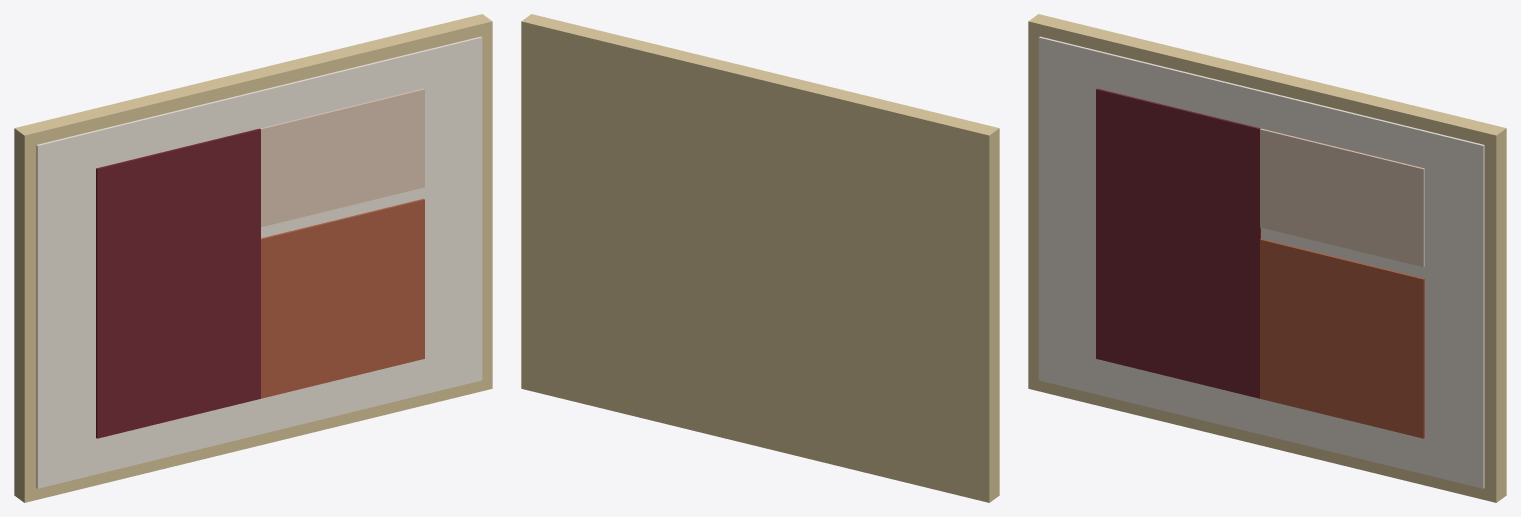
The model's file is quadro_abstrato.glb.
The picture shows the model from 3 angles, left to right: view 1: azimuth 30°, elevation 25°; view 2: azimuth 150°, elevation 25°; view 3: azimuth 330°, elevation 25°; orthographic projection.
Parts seen in each view (by area): view 1: quadro_abstrato; view 2: quadro_abstrato; view 3: quadro_abstrato.
Boxes of the visible parts, box(x1,y1,x2,y2) form: quadro_abstrato: box(14, 14, 492, 502); quadro_abstrato: box(521, 14, 999, 502); quadro_abstrato: box(1028, 14, 1506, 502).
Bounding box in the file's own units: 0.8 × 0.6 × 0.0376.
